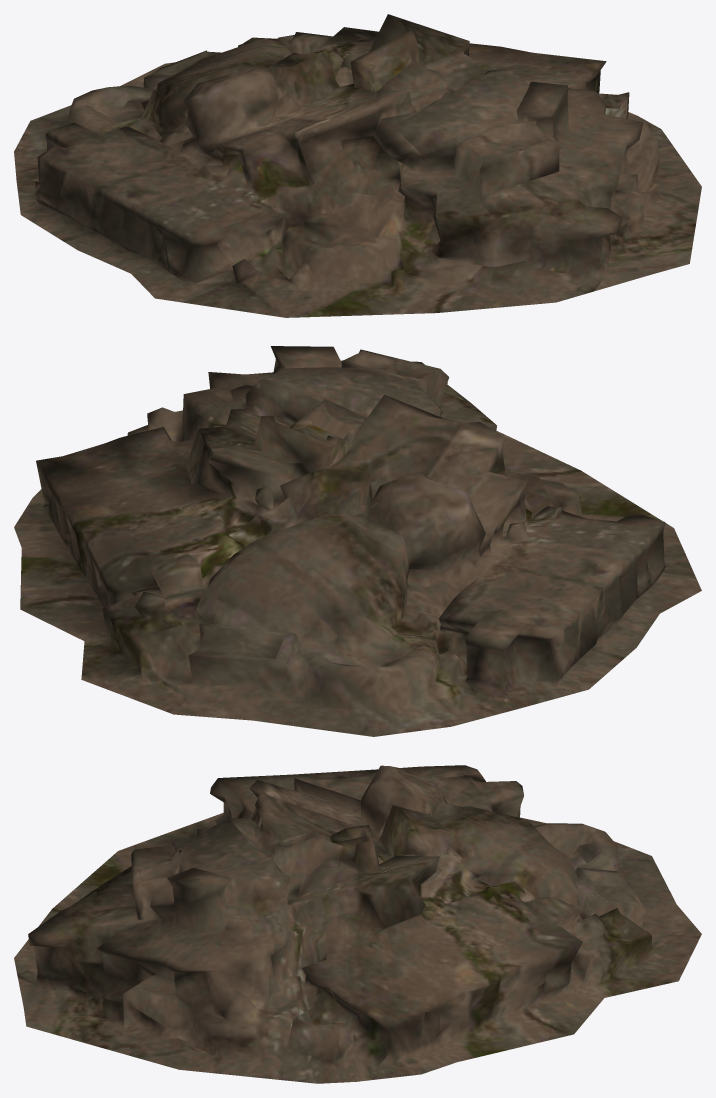
File: Rubbles_11.fbx
3 views of the same model, one above another, from view 1: azimuth 30°, elevation 25°; view 2: azimuth 150°, elevation 25°; view 3: azimuth 270°, elevation 25° (orthographic). The views are drawn at different scales.
Visible parts, largest first — view 1: Rubble_Small_02_LOD1__898510:Rubble_Small_02_LOD1_0; view 2: Rubble_Small_02_LOD1__898510:Rubble_Small_02_LOD1_0; view 3: Rubble_Small_02_LOD1__898510:Rubble_Small_02_LOD1_0.
Part boxes in pixels (<box>): Rubble_Small_02_LOD1__898510:Rubble_Small_02_LOD1_0: <box>14,14,701,317</box>; Rubble_Small_02_LOD1__898510:Rubble_Small_02_LOD1_0: <box>14,346,701,736</box>; Rubble_Small_02_LOD1__898510:Rubble_Small_02_LOD1_0: <box>14,765,701,1083</box>.
Size of the model in its own units: 25.08 by 5.65 by 26.18.
1 material, 1 textured.
